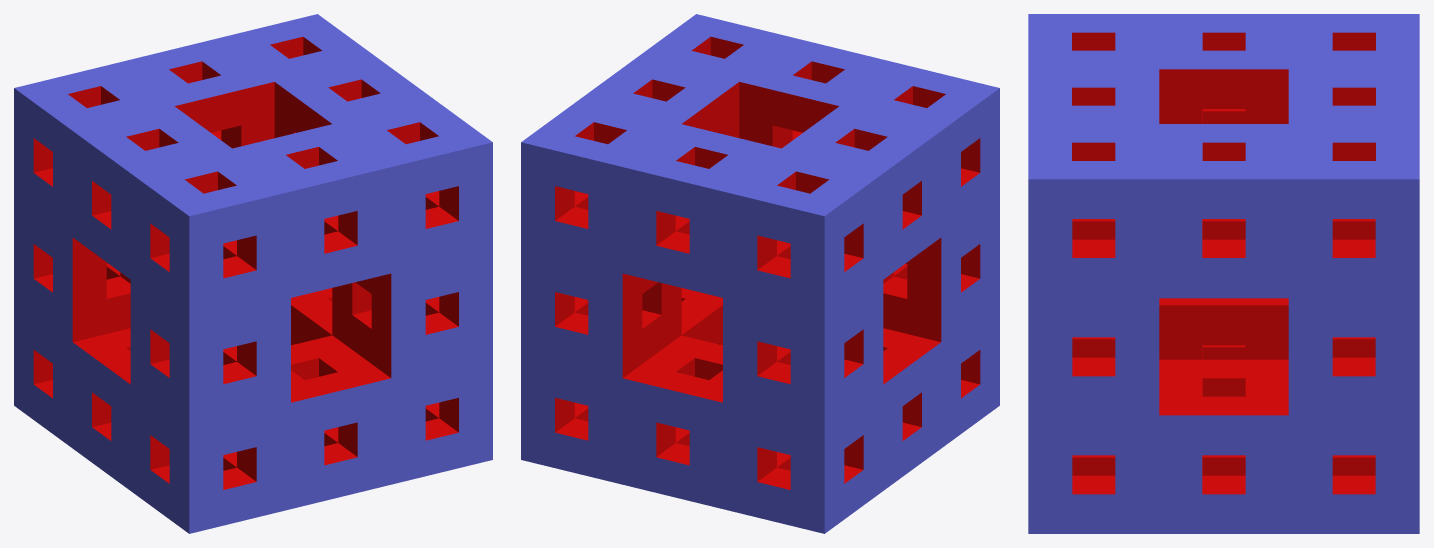
File: FractalTable.fbx
The picture shows the model from 3 angles, left to right: view 1: azimuth 30°, elevation 25°; view 2: azimuth 150°, elevation 25°; view 3: azimuth 270°, elevation 25°; orthographic projection. The views are drawn at different scales.
Parts seen in each view (by area): view 1: pCube461; view 2: pCube461; view 3: pCube461.
Part boxes in pixels (<box>): pCube461: <box>14,14,492,533</box>; pCube461: <box>521,14,999,533</box>; pCube461: <box>1028,14,1419,533</box>.
Size of the model in its own units: 1 by 1 by 1.
